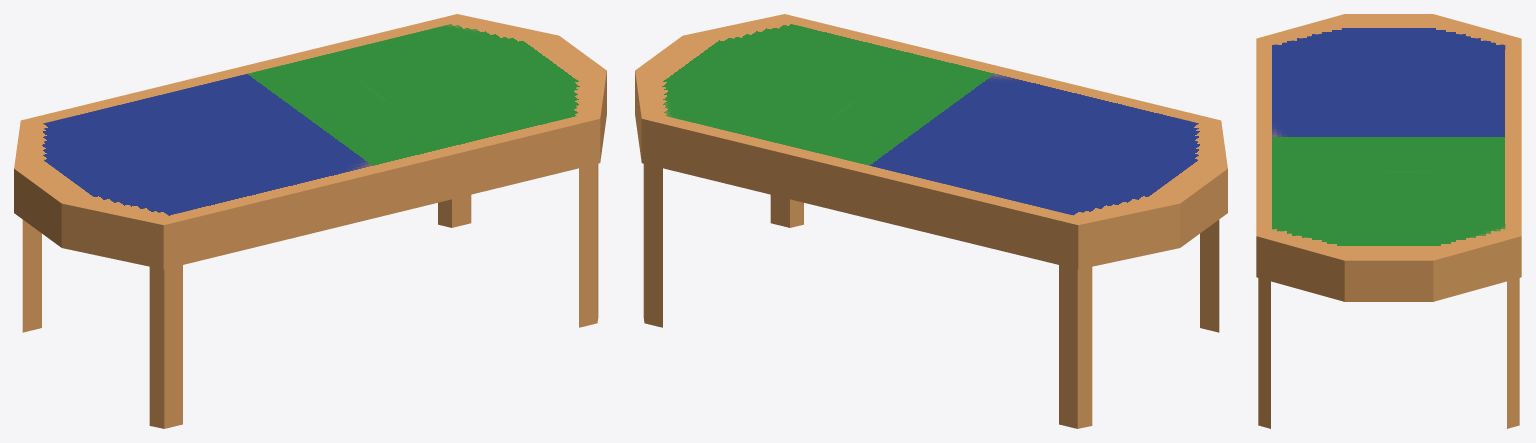
The model's file is table.glb.
3 views of the same model, side by side, from view 1: azimuth 30°, elevation 25°; view 2: azimuth 150°, elevation 25°; view 3: azimuth 270°, elevation 25° (orthographic). The views are drawn at different scales.
Visible parts, largest first — view 1: Cube; view 2: Cube; view 3: Cube.
Boxes of the visible parts, <box> form: Cube: <box>14,14,606,428</box>; Cube: <box>635,14,1227,428</box>; Cube: <box>1256,14,1521,428</box>.
Bounding box in the file's own units: 2.57 × 0.9224 × 1.17.
Materials: 1 (1 with a texture image).
